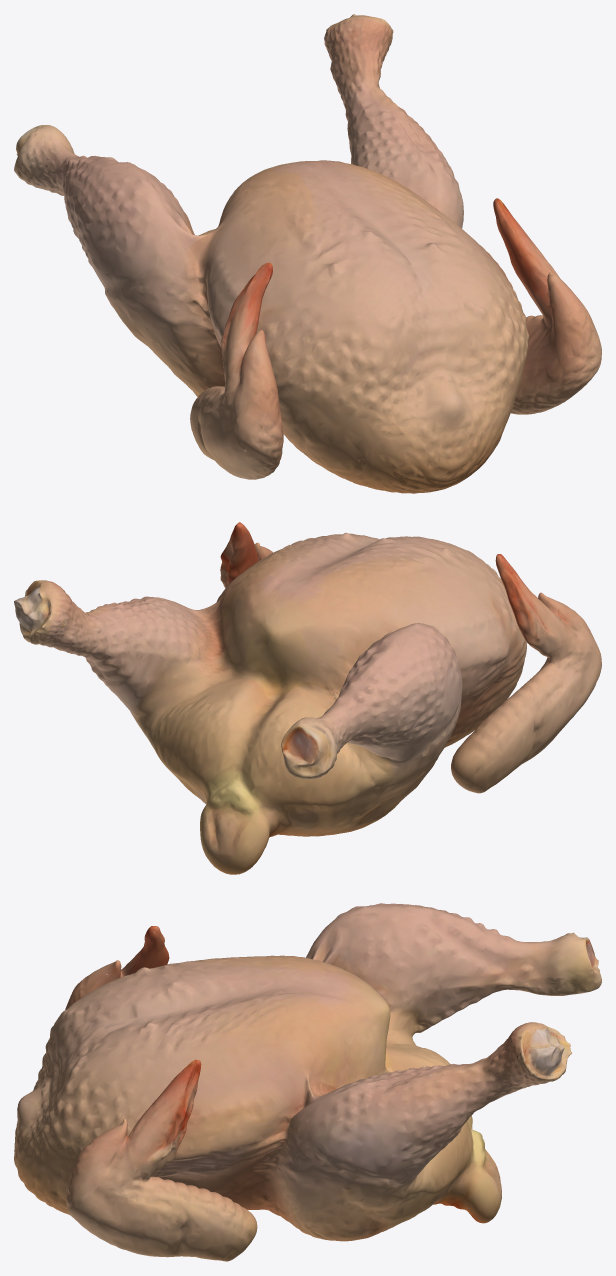
Rendered from raw-chicken.glb.
3 renders of one model, top to bottom at view 1: azimuth 30°, elevation 25°; view 2: azimuth 150°, elevation 25°; view 3: azimuth 270°, elevation 25°, orthographic. The views are drawn at different scales.
Parts seen in each view (by area): view 1: raw-chicken; view 2: raw-chicken; view 3: raw-chicken.
Boxes of the visible parts, left/top/right/bottom form: raw-chicken: left=14, top=14, right=601, bottom=493; raw-chicken: left=14, top=522, right=601, bottom=874; raw-chicken: left=14, top=903, right=601, bottom=1261.
Bounding box in the file's own units: 0.7439 × 0.522 × 0.9998.
1 material, 1 textured.
